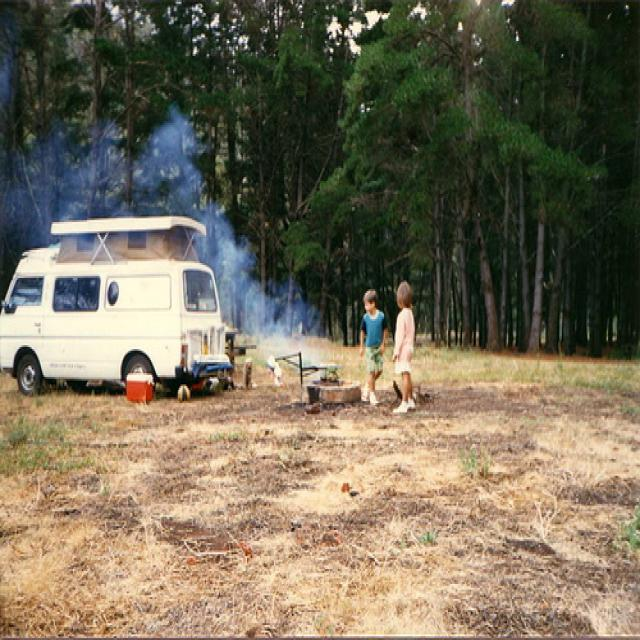child: (388, 272, 426, 409), (352, 293, 388, 411)
